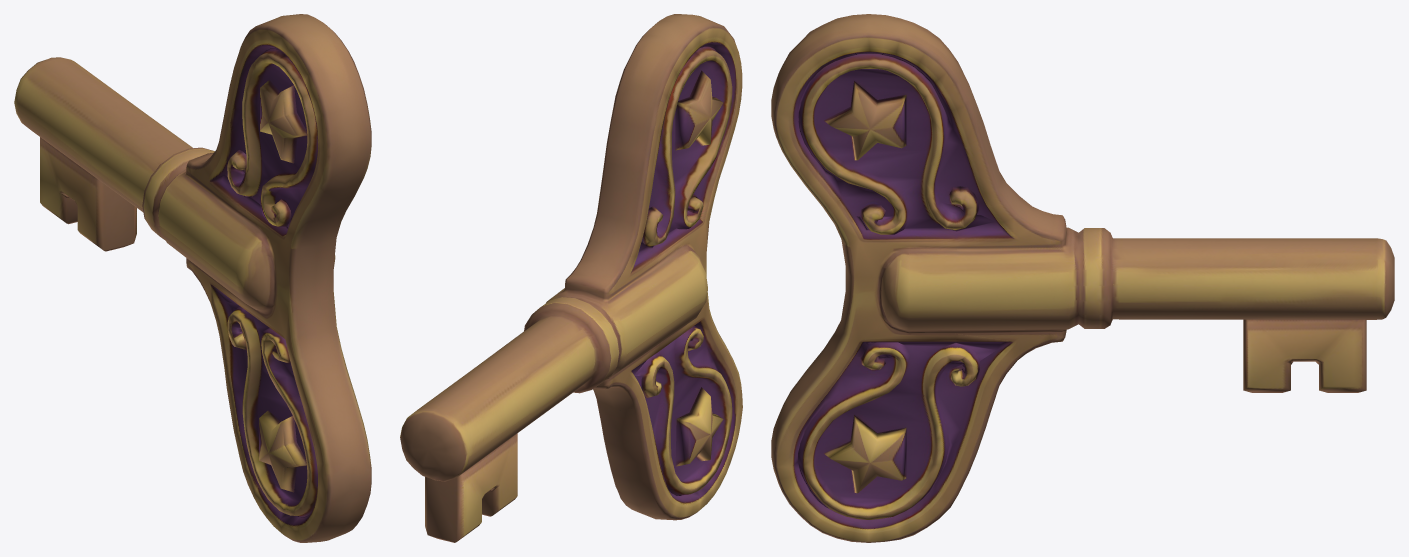
File: engineer_calliope_key_tripo.glb
3 renders of one model, left to right at view 1: azimuth 30°, elevation 25°; view 2: azimuth 150°, elevation 25°; view 3: azimuth 270°, elevation 25°, orthographic. The views are drawn at different scales.
Visible parts, largest first — view 1: tripo_node_a0b58a71-a517-4705-9920-f2d3e4ccd392; view 2: tripo_node_a0b58a71-a517-4705-9920-f2d3e4ccd392; view 3: tripo_node_a0b58a71-a517-4705-9920-f2d3e4ccd392.
Part boxes in pixels (left/top/right/bottom): tripo_node_a0b58a71-a517-4705-9920-f2d3e4ccd392: left=14, top=14, right=371, bottom=542; tripo_node_a0b58a71-a517-4705-9920-f2d3e4ccd392: left=400, top=14, right=742, bottom=542; tripo_node_a0b58a71-a517-4705-9920-f2d3e4ccd392: left=771, top=14, right=1394, bottom=542.
Size of the model in its own units: 0.1816 by 0.9121 by 0.998.
Materials: 1 (1 with a texture image).
